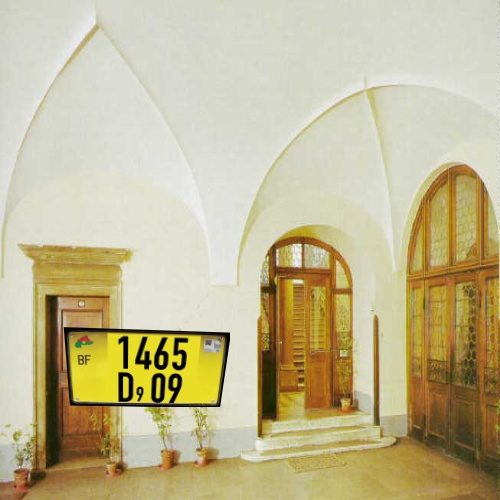plate: (51, 314, 235, 425)
